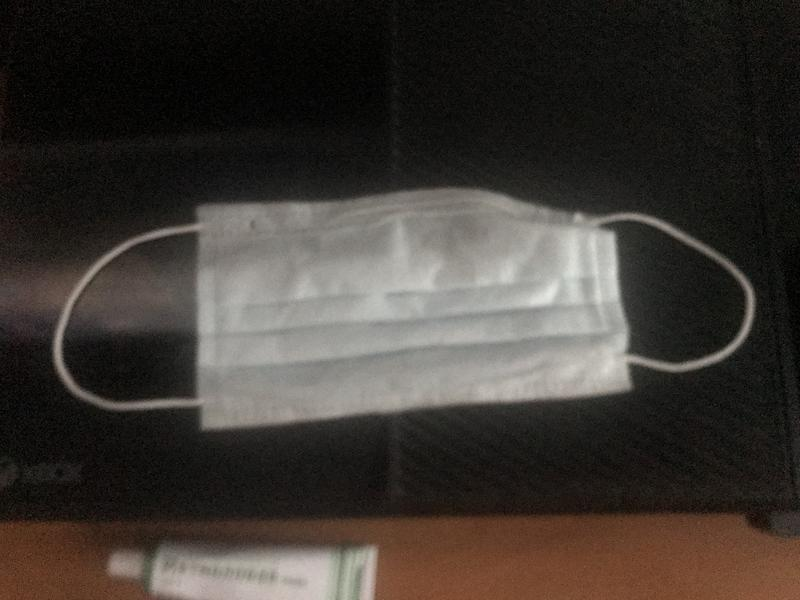medical_mask: (53, 189, 754, 432)
